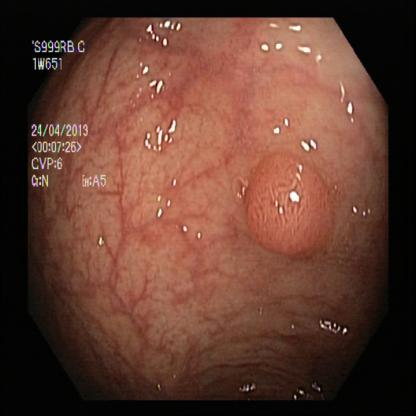Labels: (36, 35, 119, 210)
Polyps: (236, 143, 337, 264)
